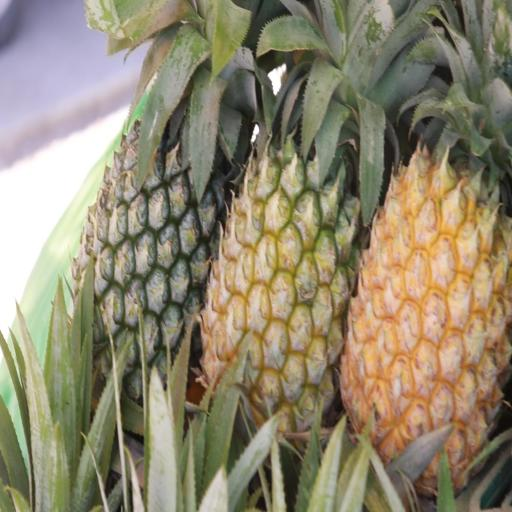------------------------------: (196, 2, 366, 434)
Pineapple - v8 v1: (339, 0, 512, 480)
